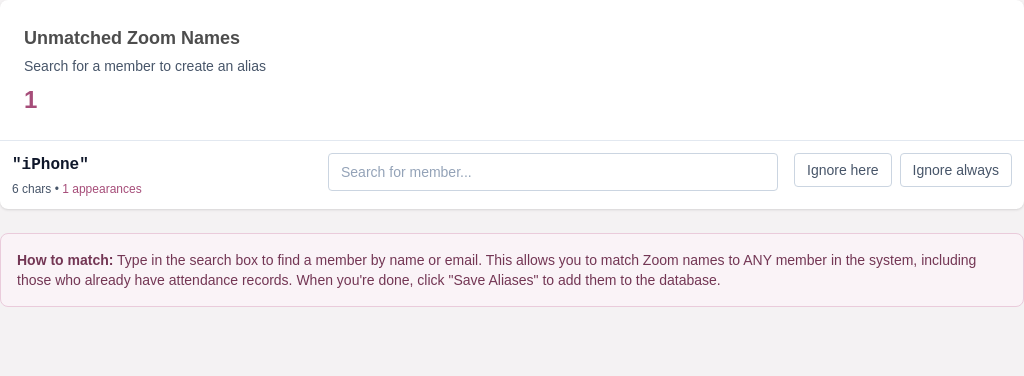
Scenario: AliasSearchForm ignore buttons › on a prickle, 'Ignore here' asks for a reason, sends it with the prickle id and hides the row
Click the button "Ignore here".
click(843, 170)  # box x1=794 y1=153 x2=892 y2=187
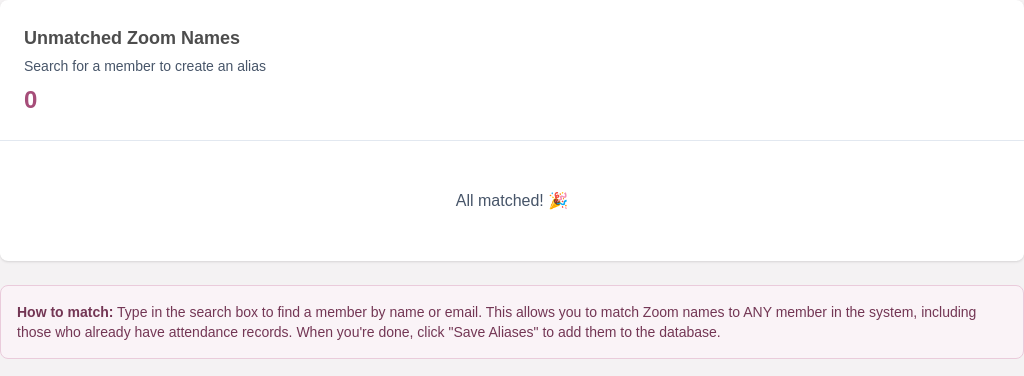
Expected: the button "Ignore here" is gone
